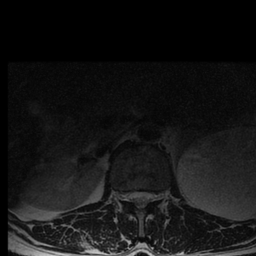CCS_normal: (137, 182, 144, 216)
LFS_normal: (152, 183, 161, 207)
LLS_normal: (144, 182, 152, 211)
RFS_normal: (120, 181, 128, 208)
RLS_normal: (128, 182, 137, 208)
